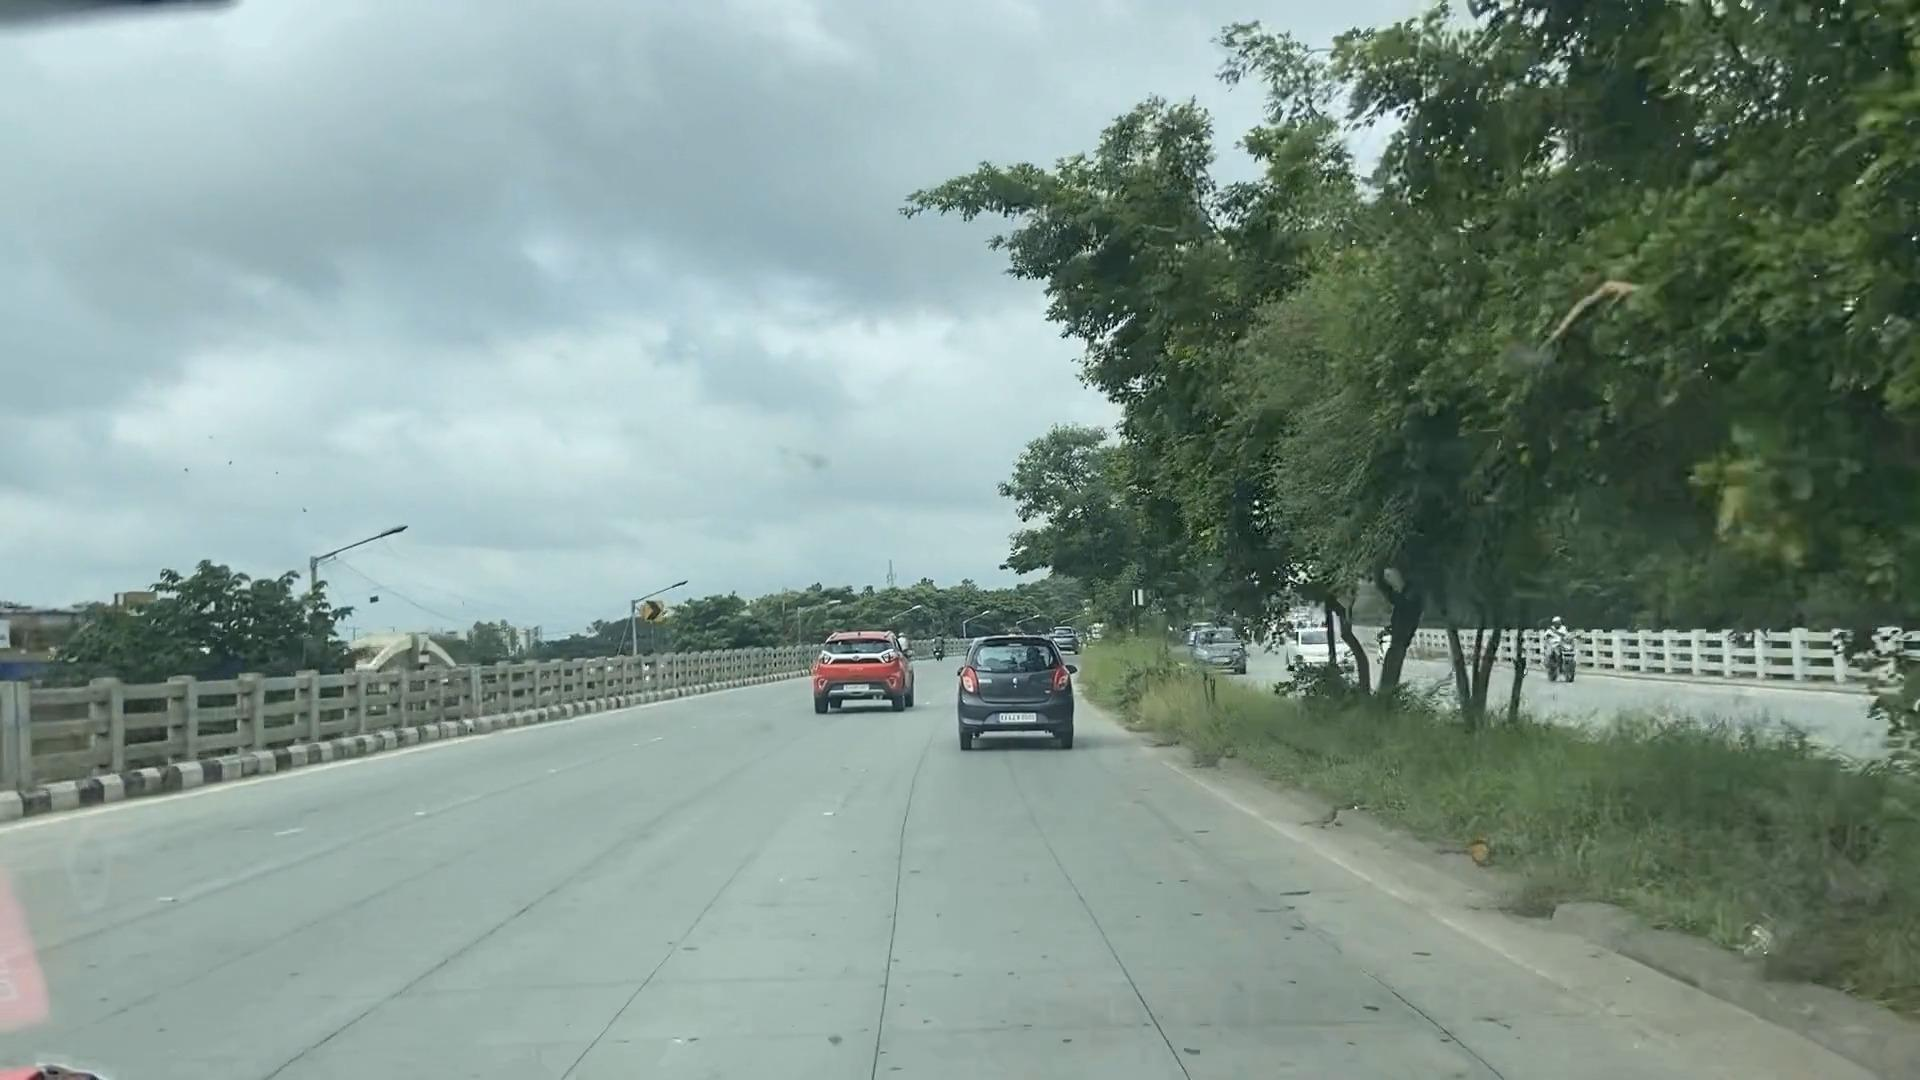LMV: (963, 636, 1058, 725), (812, 626, 915, 704)
